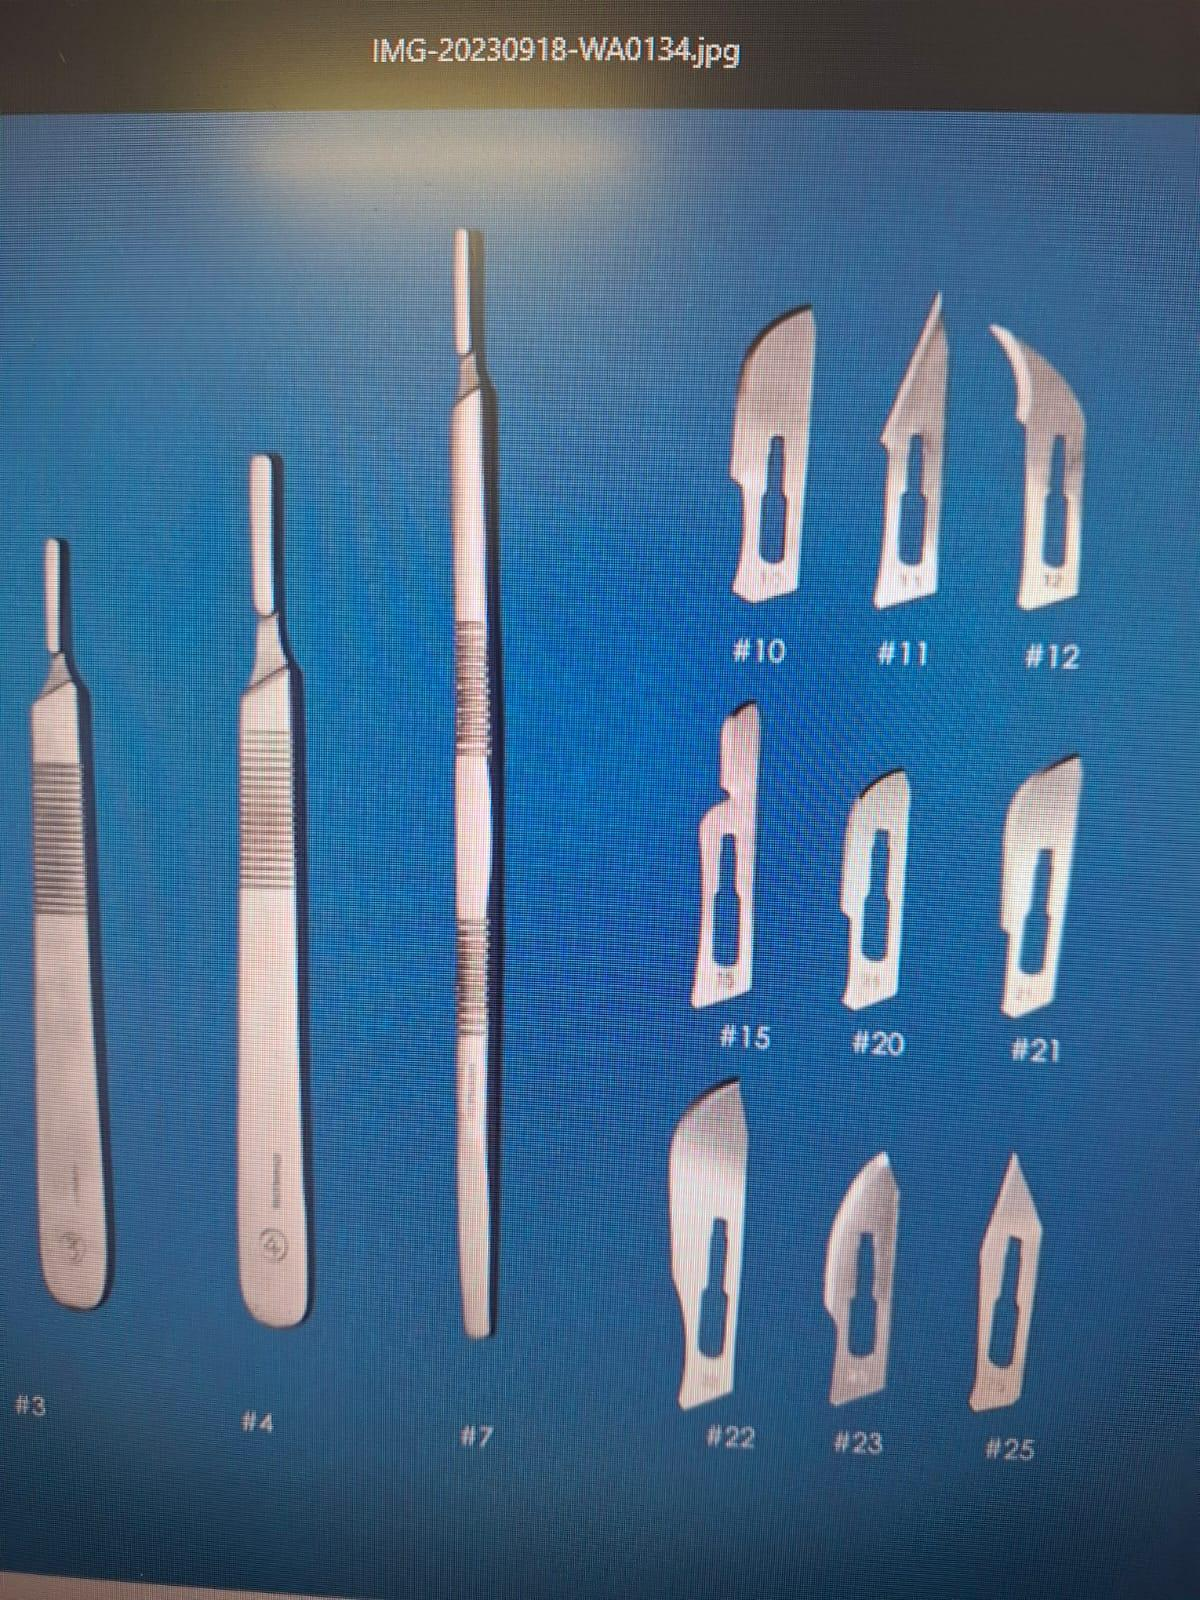Knife Blade: (982, 315, 1129, 632), (638, 1077, 778, 1405), (976, 742, 1108, 1023), (865, 302, 976, 625), (803, 1133, 925, 1420), (963, 1138, 1075, 1427), (722, 287, 821, 607), (829, 750, 923, 1026)
Knife Handle: (211, 435, 345, 1346), (20, 523, 140, 1333)
